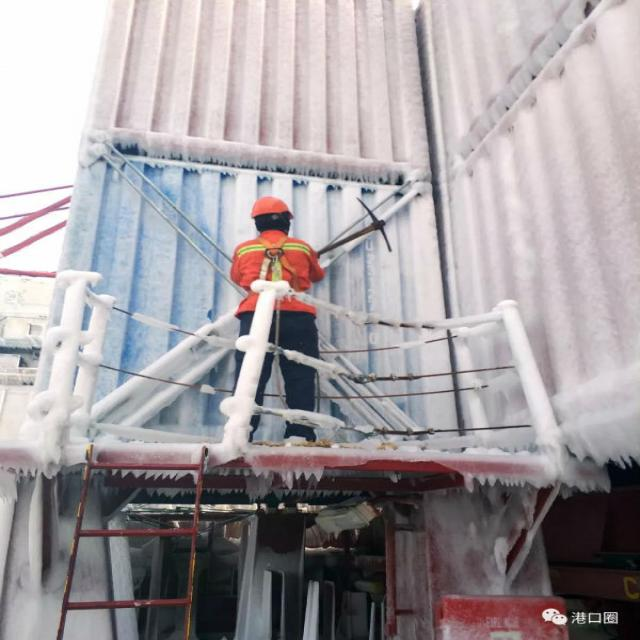Reflective-Jacket: (225, 233, 324, 318)
Safety-Helmet: (243, 192, 299, 222)
